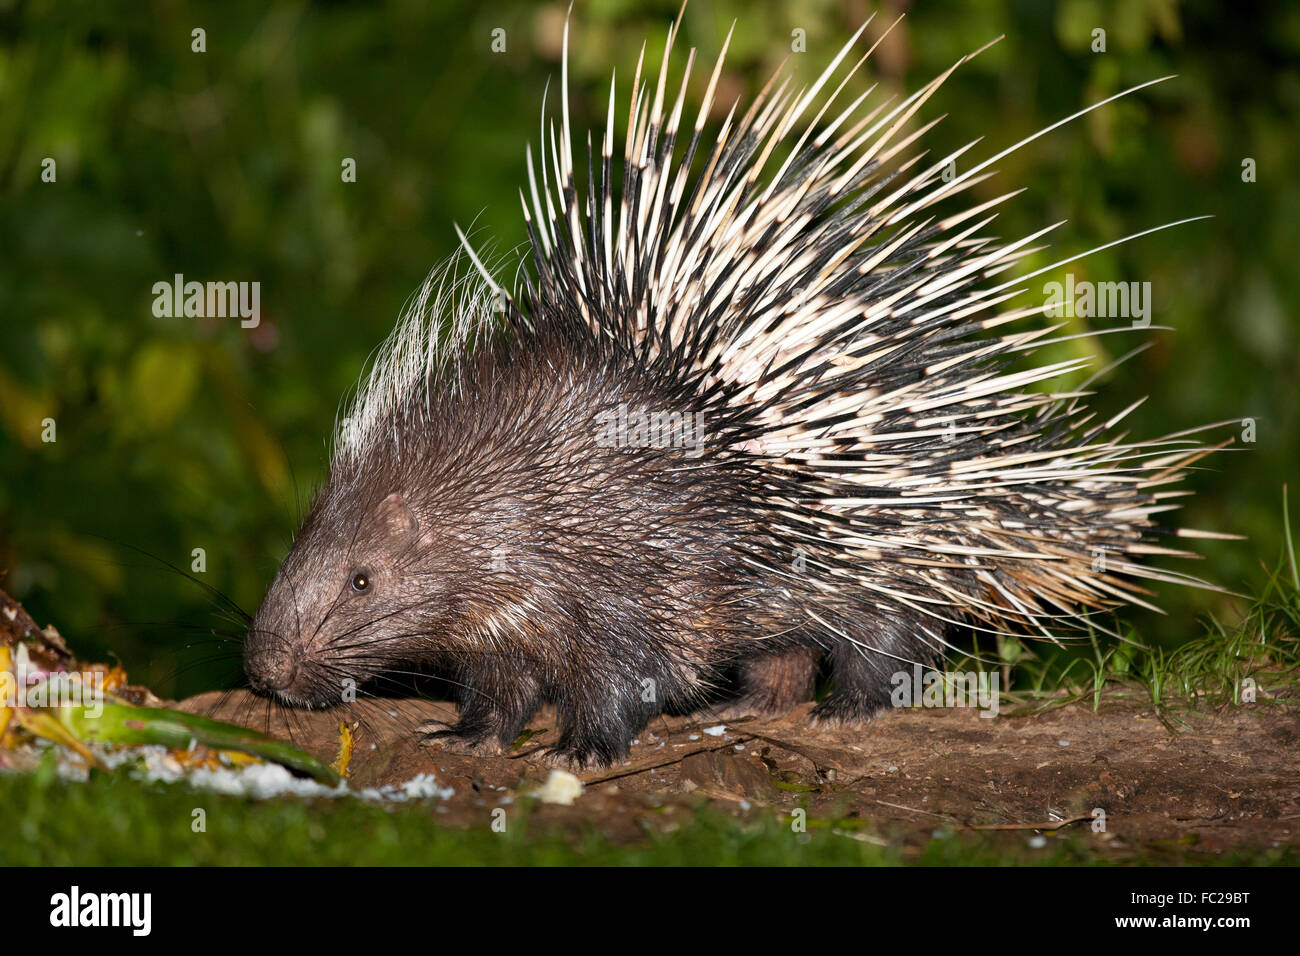porcupine: (203, 55, 1213, 782)
